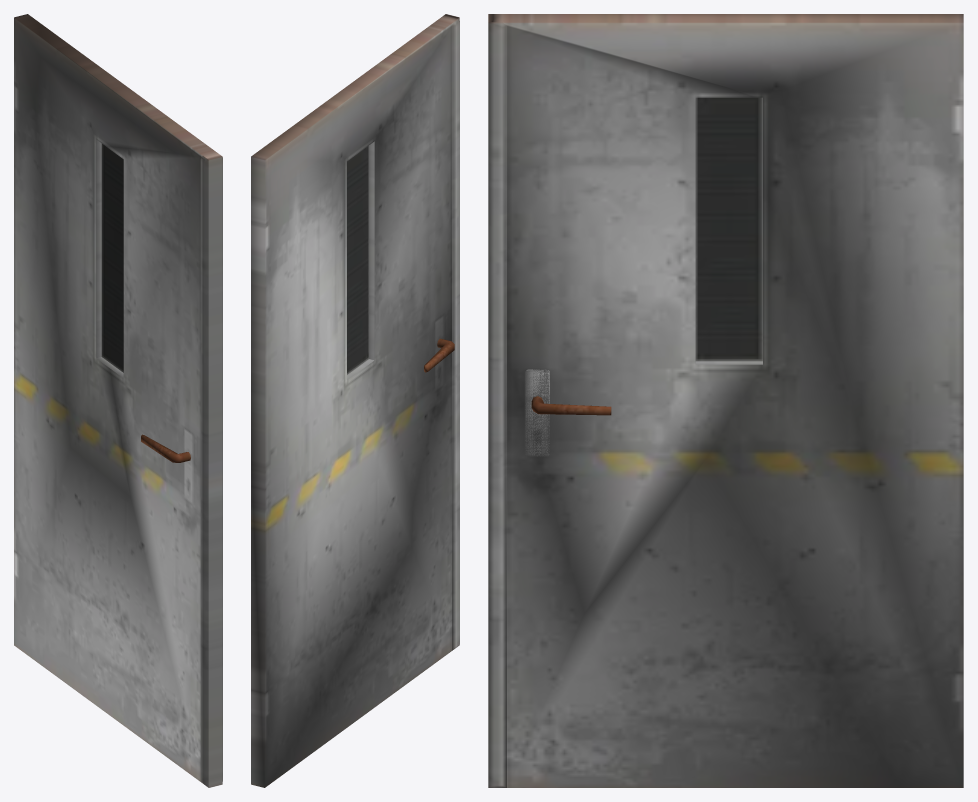
Rendered from industrial_doors_a_a_static_glass_green_nms.glb.
3 renders of one model, left to right at view 1: azimuth 30°, elevation 25°; view 2: azimuth 150°, elevation 25°; view 3: azimuth 270°, elevation 25°, orthographic. The views are drawn at different scales.
Visible parts, largest first — view 1: industrial_doors_a_a_static_glass_green_nms; view 2: industrial_doors_a_a_static_glass_green_nms; view 3: industrial_doors_a_a_static_glass_green_nms.
Boxes of the visible parts, x1,y1,x2,y2 form: industrial_doors_a_a_static_glass_green_nms: (14,14,222,787); industrial_doors_a_a_static_glass_green_nms: (251,14,459,787); industrial_doors_a_a_static_glass_green_nms: (488,14,963,787).
Bounding box in the file's own units: 0.1787 × 2.14 × 1.2.
Materials: 1 (1 with a texture image).
